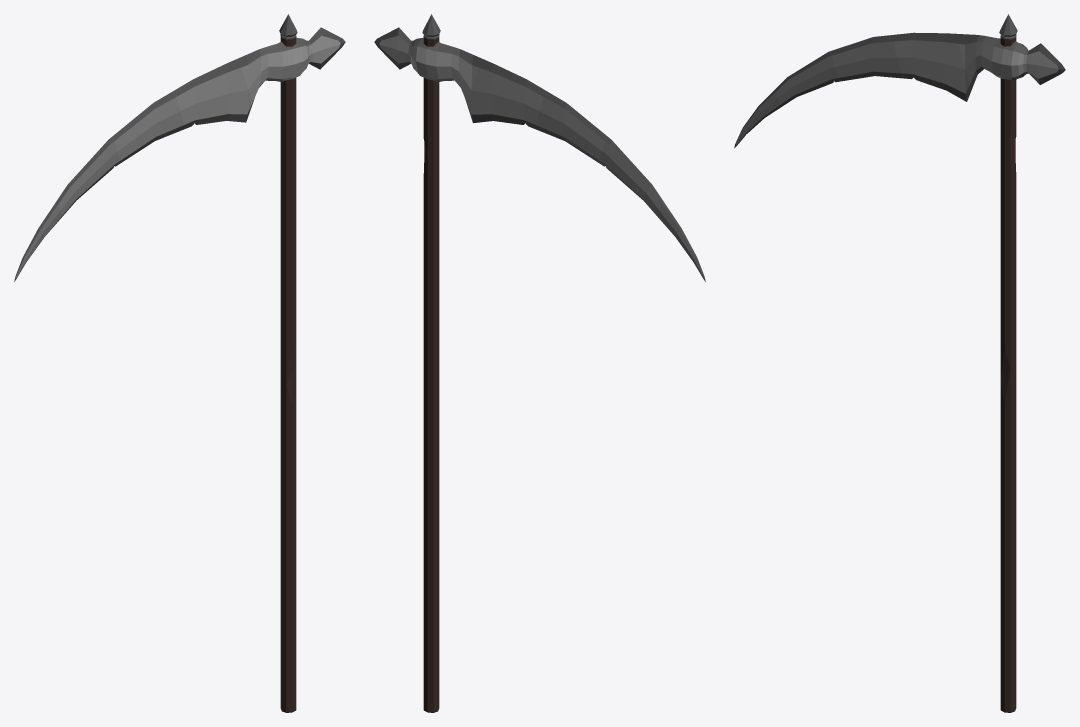
File: Scythe Detailed.fbx
3 views of the same model, side by side, from view 1: azimuth 30°, elevation 25°; view 2: azimuth 150°, elevation 25°; view 3: azimuth 330°, elevation 25° (orthographic).
Parts seen in each view (by area): view 1: Scythe Detailed; view 2: Scythe Detailed; view 3: Scythe Detailed.
Boxes of the visible parts, x1,y1,x2,y2 form: Scythe Detailed: (14,14,345,712); Scythe Detailed: (374,14,705,712); Scythe Detailed: (734,14,1065,712).
Size of the model in its own units: 1.36 by 2.72 by 0.0952.
